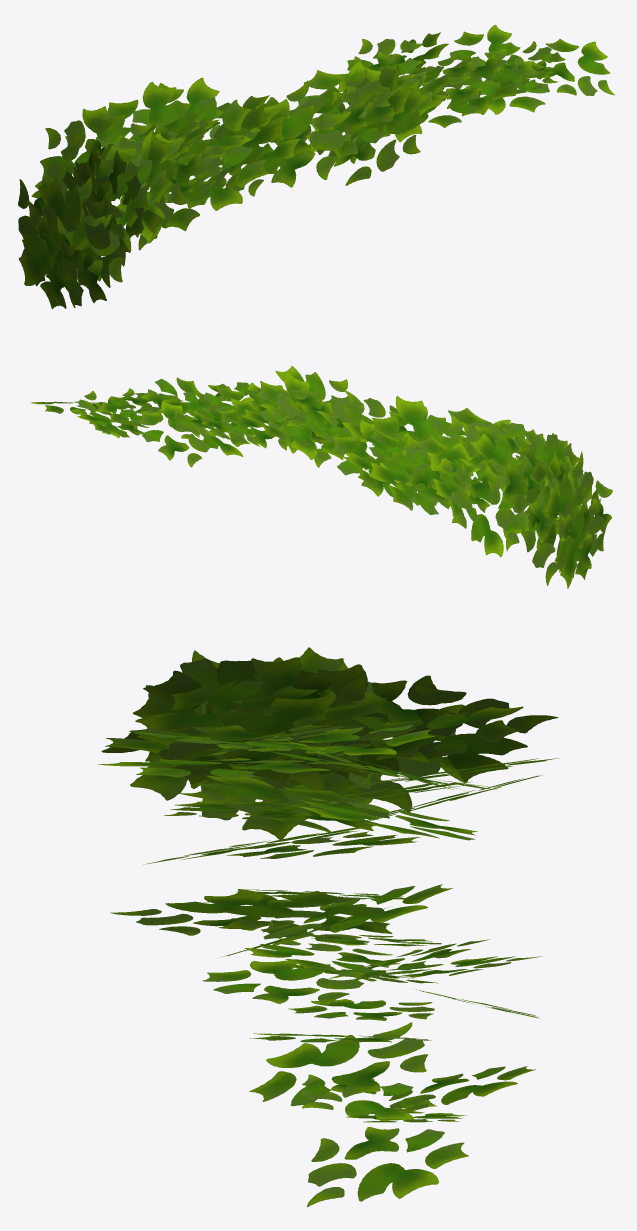
Rendered from P_IvyCoastal01.obj.
3 renders of one model, top to bottom at view 1: azimuth 30°, elevation 25°; view 2: azimuth 150°, elevation 25°; view 3: azimuth 270°, elevation 25°, orthographic. The views are drawn at different scales.
Bounding box in the file's own units: 9.97 × 2.6 × 4.3.
